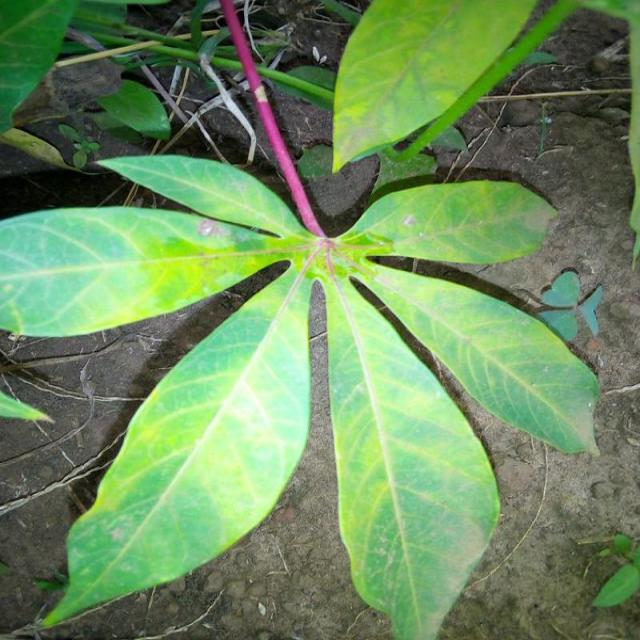cassava leaf: (1, 2, 602, 637), (39, 260, 313, 630), (320, 259, 501, 638), (330, 0, 540, 175)
